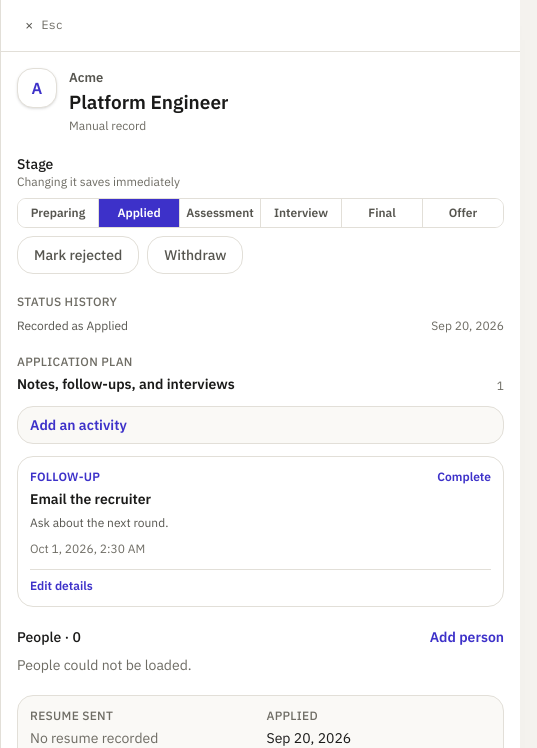
Test: FocusPanel — application flavour › edits a planned follow-up without changing application history
The width and height of the screenshot is (537, 748).
Check: the list item "Email the recruiter" is shown, box [30,490,151,508]
Click the heading "Edit details". click: (61,586)
box: [30,578,93,593]
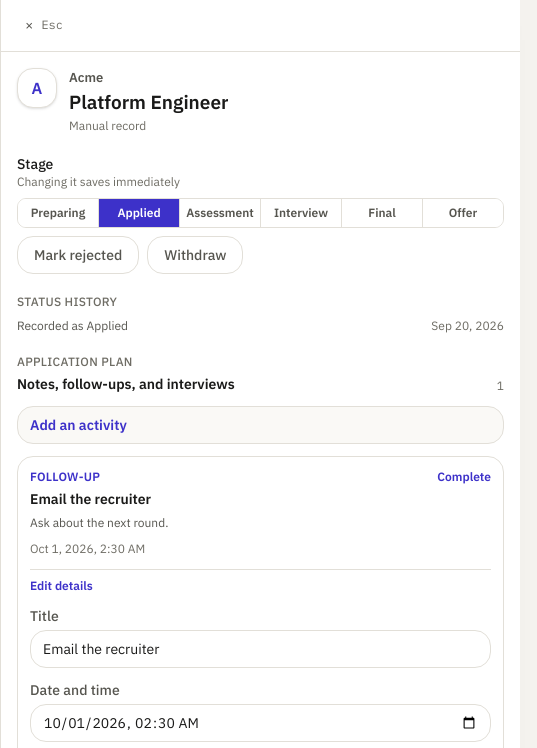
Replace the text in the field labelled "Title" with "Confirm the interview time". click: (260,649)
box: [30,630,491,668]
(page scrolled)
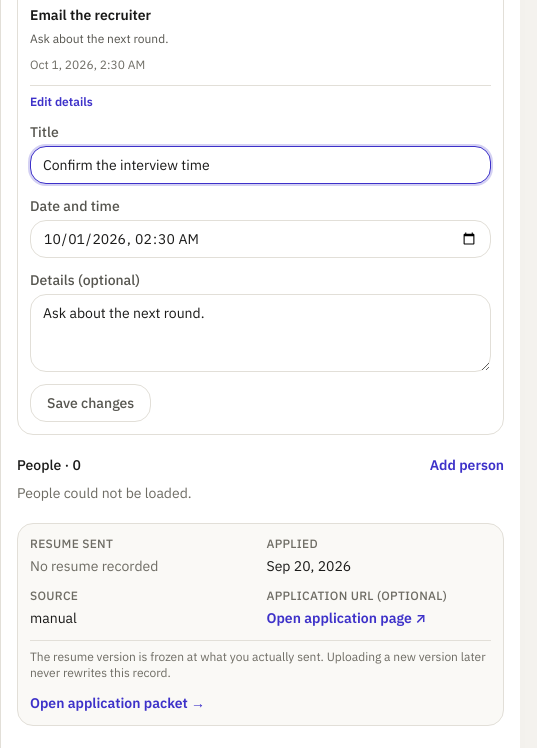
Click the button "Save changes". click: (91,403)
box: [30,384,151,422]
(page scrolled)
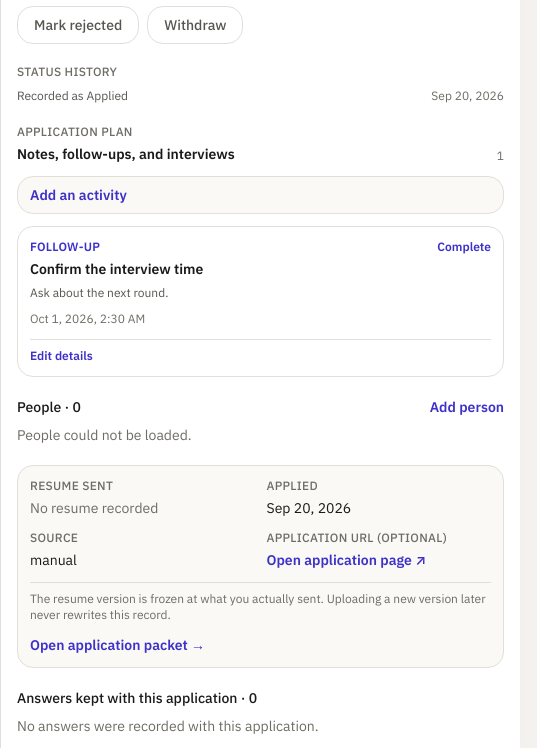
Check: the text "Confirm the interview time" is shown, box [30,259,203,279]
